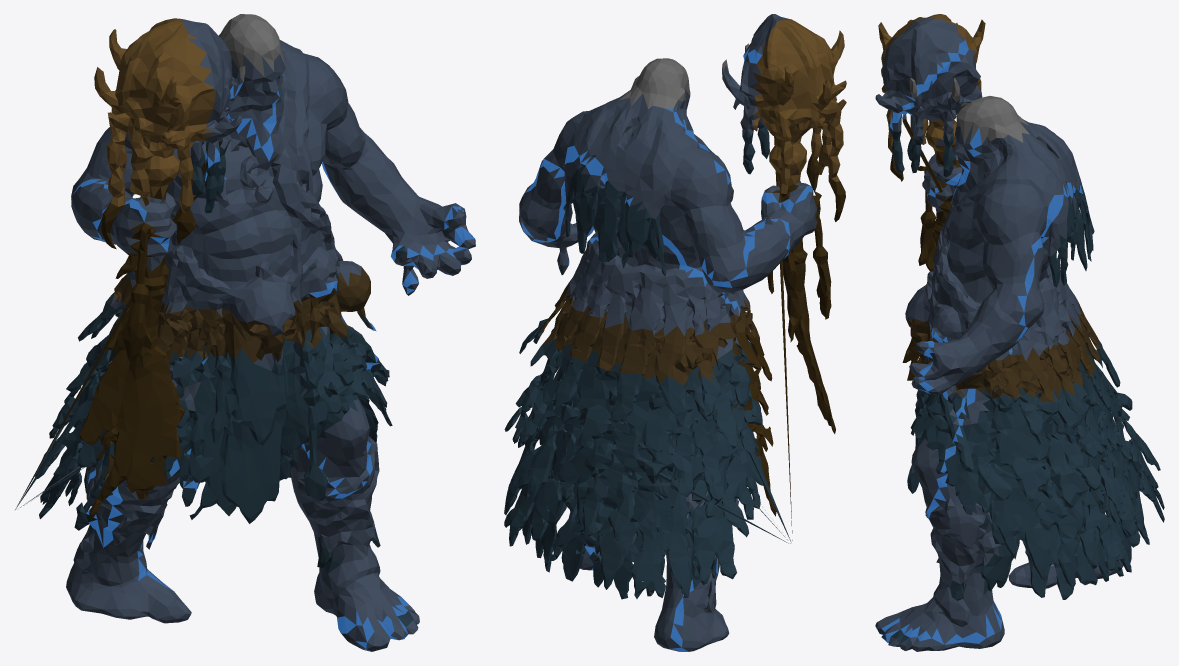
File: gigante_runas.glb
3 renders of one model, left to right at view 1: azimuth 30°, elevation 25°; view 2: azimuth 150°, elevation 25°; view 3: azimuth 270°, elevation 25°, orthographic. The views are drawn at different scales.
Visible parts, largest first — view 1: tmptduo10cs.ply; view 2: tmptduo10cs.ply; view 3: tmptduo10cs.ply.
Boxes of the visible parts, <box> form: tmptduo10cs.ply: <box>15,14,475,651</box>; tmptduo10cs.ply: <box>504,14,846,651</box>; tmptduo10cs.ply: <box>875,14,1164,651</box>.
Size of the model in its own units: 1.19 by 1.96 by 0.9366.
